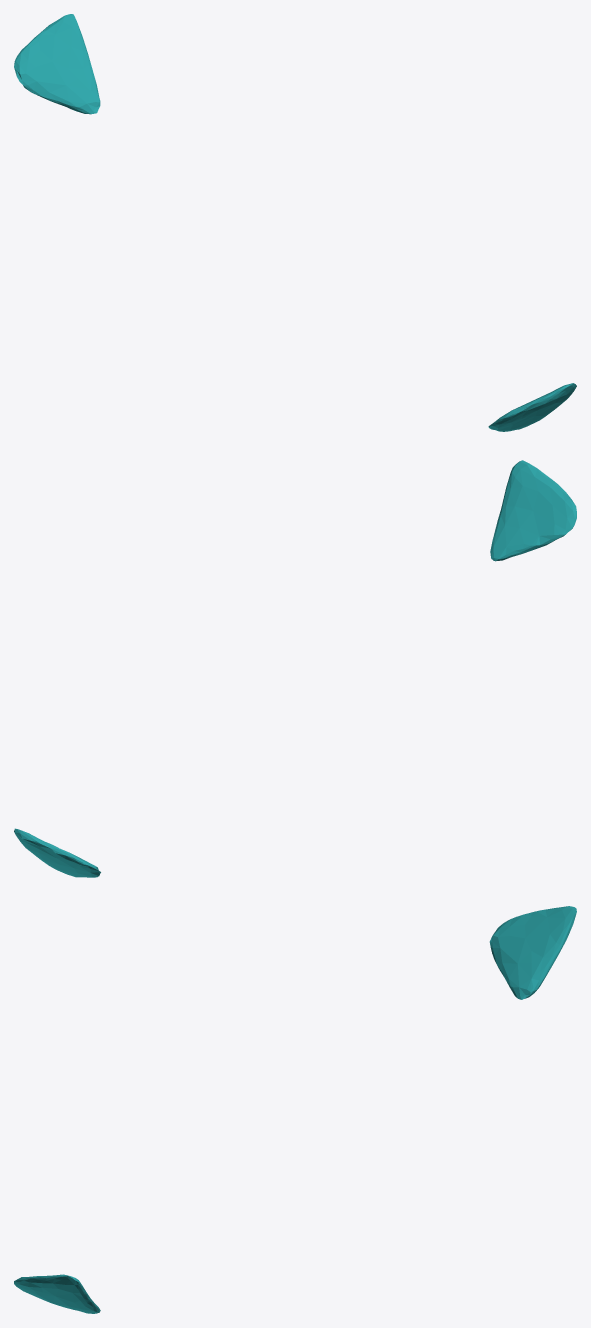
The picture shows the model from 3 angles, top to bottom: view 1: azimuth 30°, elevation 25°; view 2: azimuth 150°, elevation 25°; view 3: azimuth 330°, elevation 25°; orthographic projection.
Parts seen in each view (by area): view 1: 1074.obj; view 2: 1074.obj; view 3: 1074.obj.
Boxes of the visible parts, left/top/right/bottom form: 1074.obj: left=14, top=14, right=576, bottom=431; 1074.obj: left=14, top=460, right=576, bottom=877; 1074.obj: left=14, top=906, right=576, bottom=1313.
Size of the model in its own units: 713 by 632 by 8440.
